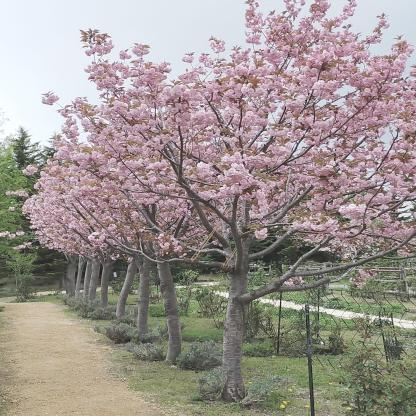YaeSakura: (186, 0, 416, 287), (75, 24, 139, 263), (43, 87, 86, 266), (2, 160, 81, 253), (152, 57, 186, 264), (126, 27, 153, 270), (79, 65, 110, 261)
